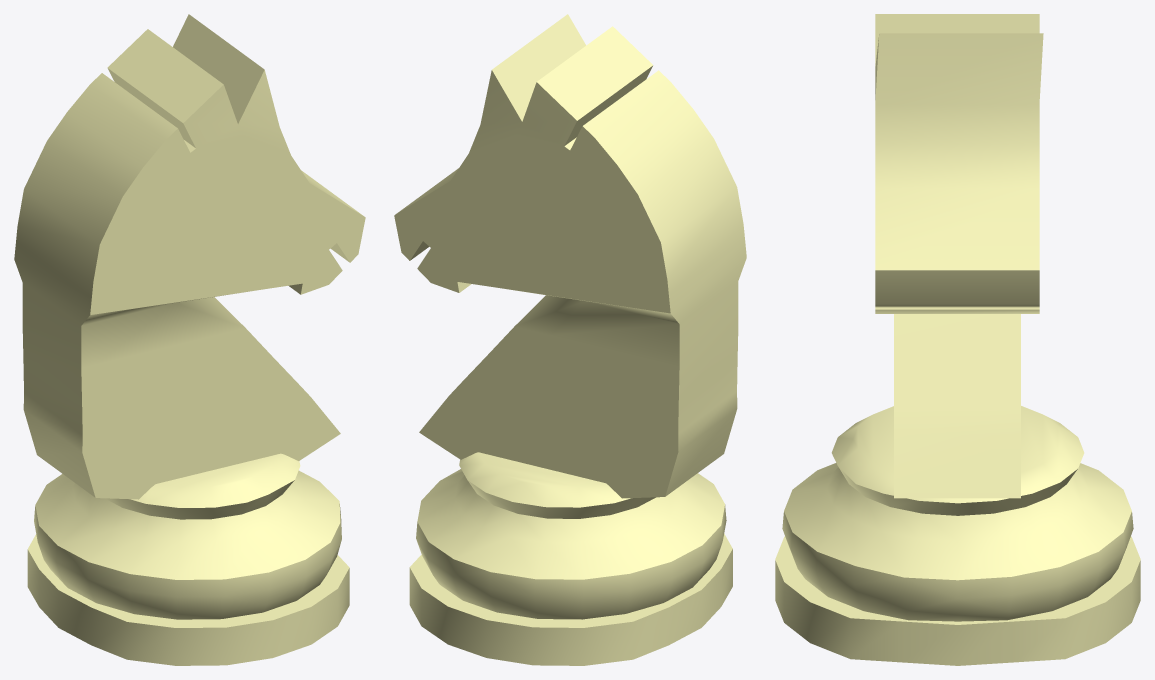
The picture shows the model from 3 angles, left to right: view 1: azimuth 30°, elevation 25°; view 2: azimuth 150°, elevation 25°; view 3: azimuth 270°, elevation 25°; orthographic projection. The views are drawn at different scales.
Visible parts, largest first — view 1: White_Knight; view 2: White_Knight; view 3: White_Knight.
Boxes of the visible parts, x1,y1,x2,y2 form: White_Knight: (14,14,365,665); White_Knight: (394,14,746,665); White_Knight: (775,14,1140,665).
Size of the model in its own units: 1.65 by 3.11 by 1.75.
